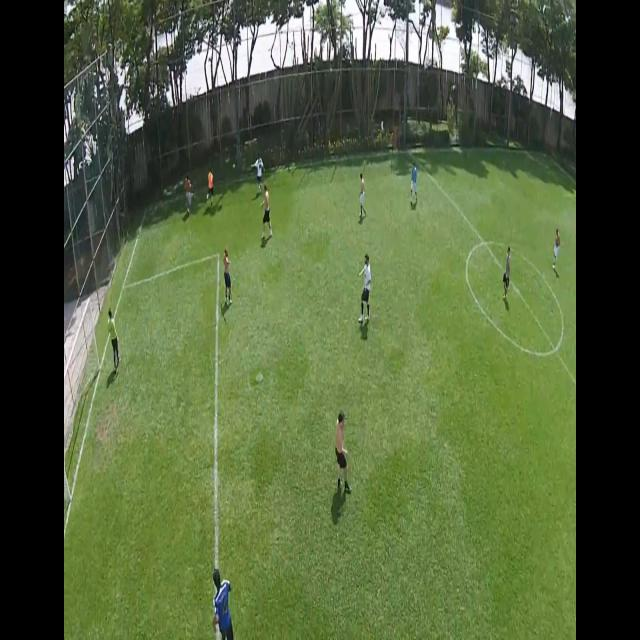humans: (212, 563, 236, 640), (333, 402, 351, 504), (356, 250, 374, 330), (108, 301, 122, 376), (260, 181, 274, 247), (222, 240, 232, 313), (502, 240, 512, 310), (407, 157, 420, 203), (358, 165, 368, 224), (204, 163, 216, 211), (551, 220, 562, 272), (252, 150, 264, 186)
